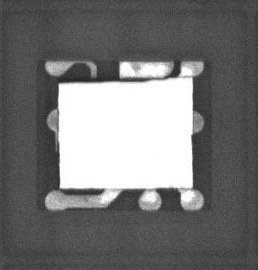DIE_BROKEN: (58, 76, 151, 83)
